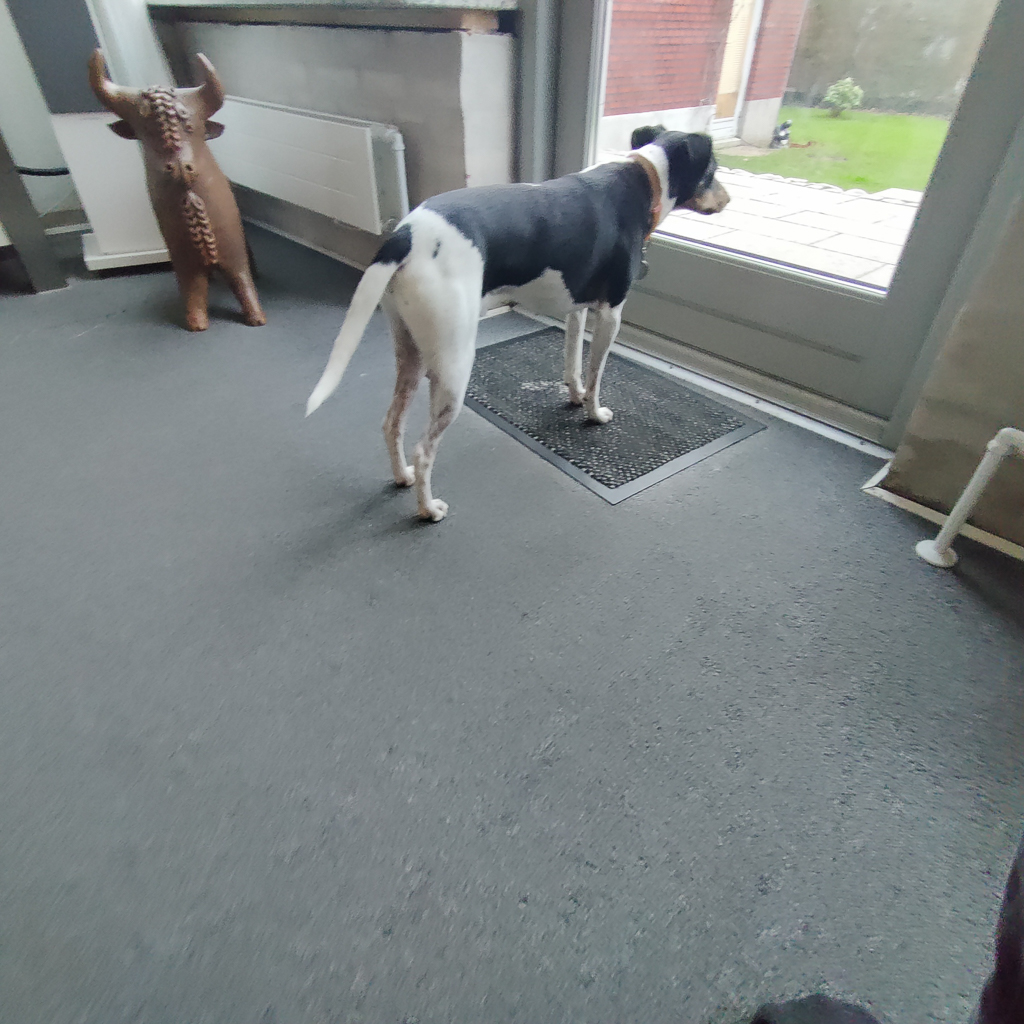Cattle: (70, 40, 302, 337)
Dog: (292, 102, 751, 545)
Humanoid: (764, 113, 798, 154)
